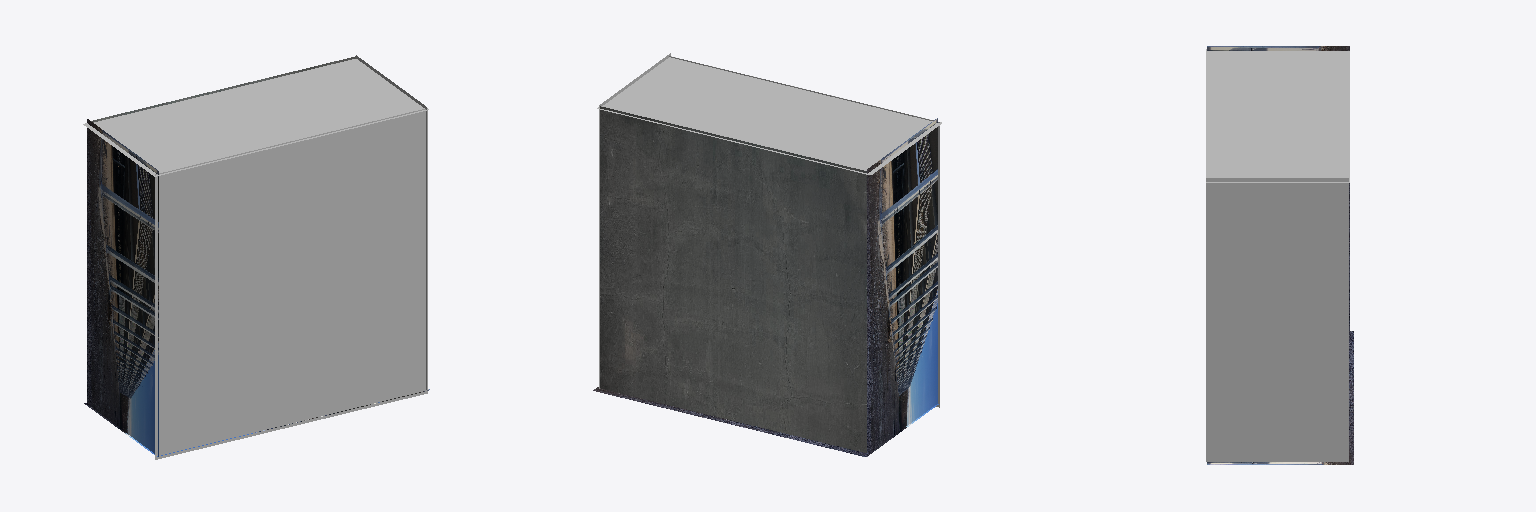
3 renders of one model, left to right at view 1: azimuth 30°, elevation 25°; view 2: azimuth 150°, elevation 25°; view 3: azimuth 270°, elevation 25°, orthographic.
Parts seen in each view (by area): view 1: Ceiling_Plane.005, h3_Plane.003, h4_Plane.004, floor_Plane; view 2: floor_Plane, h3_Plane.003, h4_Plane.004, h2_Plane.002, Ceiling_Plane.005; view 3: h1_Plane.001, h4_Plane.004, h2_Plane.002, h3_Plane.003.
Part boxes in pixels (x1,y1,x2,y2): Ceiling_Plane.005: (155, 108, 427, 459); h3_Plane.003: (87, 119, 158, 456); h4_Plane.004: (83, 59, 428, 176); floor_Plane: (91, 56, 355, 122); floor_Plane: (600, 106, 866, 452); h3_Plane.003: (867, 118, 937, 454); h4_Plane.004: (597, 56, 941, 174); h2_Plane.002: (593, 387, 938, 456); Ceiling_Plane.005: (669, 56, 939, 407); h1_Plane.001: (1206, 178, 1348, 461); h4_Plane.004: (1206, 49, 1349, 182); h2_Plane.002: (1207, 331, 1353, 464); h3_Plane.003: (1207, 46, 1349, 331).
Bounding box in the file's own units: 6 × 5.99 × 2.78.
6 materials, 2 textured.